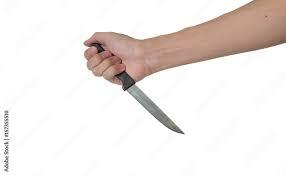Knife: (91, 42, 184, 134)
